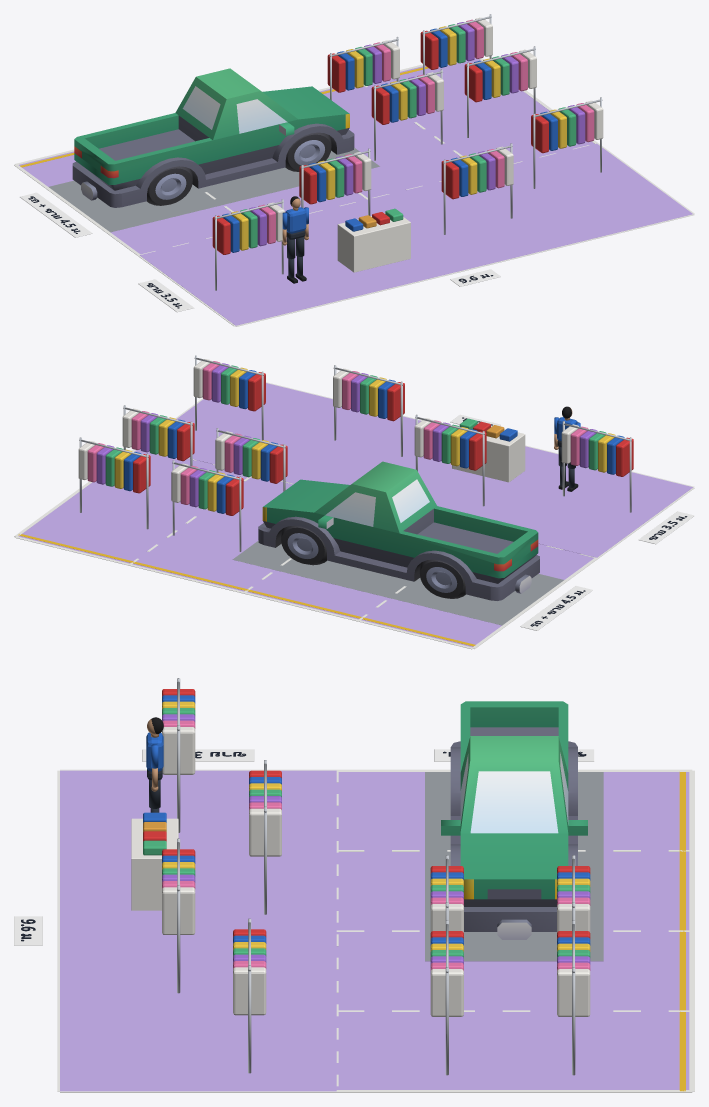
The model's file is lot-boot-4.glb.
3 renders of one model, top to bottom at view 1: azimuth 30°, elevation 25°; view 2: azimuth 150°, elevation 25°; view 3: azimuth 270°, elevation 25°, orthographic. The views are drawn at different scales.
Visible parts, largest first — view 1: Cube, body, Cube.093, Cube.094, Cube.063, wheel-back-right, wheel-front-right, Cube.125, Cube.001, Cube.002, Cube.124, Cube.075 (+7 smaller); view 2: Cube, Cube.093, body, Cube.094, Cube.063, wheel-back-left, wheel-front-left, Cube.055, Cube.004, Cube.125, Cube.002, Cube.124 (+8 smaller); view 3: Cube, Cube.093, body, Cube.094, Cube.063, Cube.055, Cube.004, Cube.003, Cube.088, Cube.081, Cube.115, Cube.122 (+8 smaller).
Boxes of the visible parts, x1=… form: Cube: x1=140, y1=143, x2=692, y2=325; body: x1=72, y1=68, x2=354, y2=207; Cube.093: x1=19, y1=58, x2=594, y2=254; Cube.094: x1=49, y1=148, x2=379, y2=232; Cube.063: x1=337, y1=213, x2=410, y2=272; wheel-back-right: x1=147, y1=166, x2=192, y2=205; wheel-front-right: x1=285, y1=132, x2=331, y2=171; Cube.125: x1=20, y1=192, x2=92, y2=237; Cube.001: x1=236, y1=214, x2=693, y2=326; Cube.002: x1=14, y1=164, x2=235, y2=326; Cube.124: x1=138, y1=279, x2=193, y2=312; Cube.075: x1=441, y1=160, x2=459, y2=199; Cube: x1=176, y1=383, x2=692, y2=557; Cube.093: x1=19, y1=449, x2=593, y2=647; body: x1=258, y1=461, x2=539, y2=600; Cube.094: x1=232, y1=540, x2=563, y2=625; Cube.063: x1=452, y1=422, x2=525, y2=482; wheel-back-left: x1=419, y1=559, x2=465, y2=598; wheel-front-left: x1=280, y1=525, x2=326, y2=565; Cube.055: x1=18, y1=534, x2=475, y2=646; Cube.004: x1=14, y1=536, x2=472, y2=649; Cube.125: x1=520, y1=586, x2=592, y2=630; Cube.002: x1=472, y1=487, x2=694, y2=648; Cube.124: x1=638, y1=511, x2=694, y2=544; Cube: x1=60, y1=770, x2=336, y2=1091; Cube.093: x1=336, y1=772, x2=689, y2=1089; body: x1=441, y1=701, x2=587, y2=939; Cube.094: x1=425, y1=772, x2=603, y2=961; Cube.063: x1=131, y1=818, x2=178, y2=910; Cube.055: x1=679, y1=772, x2=685, y2=1091; Cube.004: x1=689, y1=770, x2=694, y2=1091; Cube.003: x1=60, y1=1090, x2=692, y2=1092; Cube.088: x1=233, y1=967, x2=266, y2=1015; Cube.081: x1=162, y1=887, x2=195, y2=934; Cube.115: x1=430, y1=969, x2=463, y2=1016; Cube.122: x1=557, y1=969, x2=590, y2=1016.
Size of the model in its own units: 10.27 by 1.8 by 8.62.
24 materials, 1 textured.
